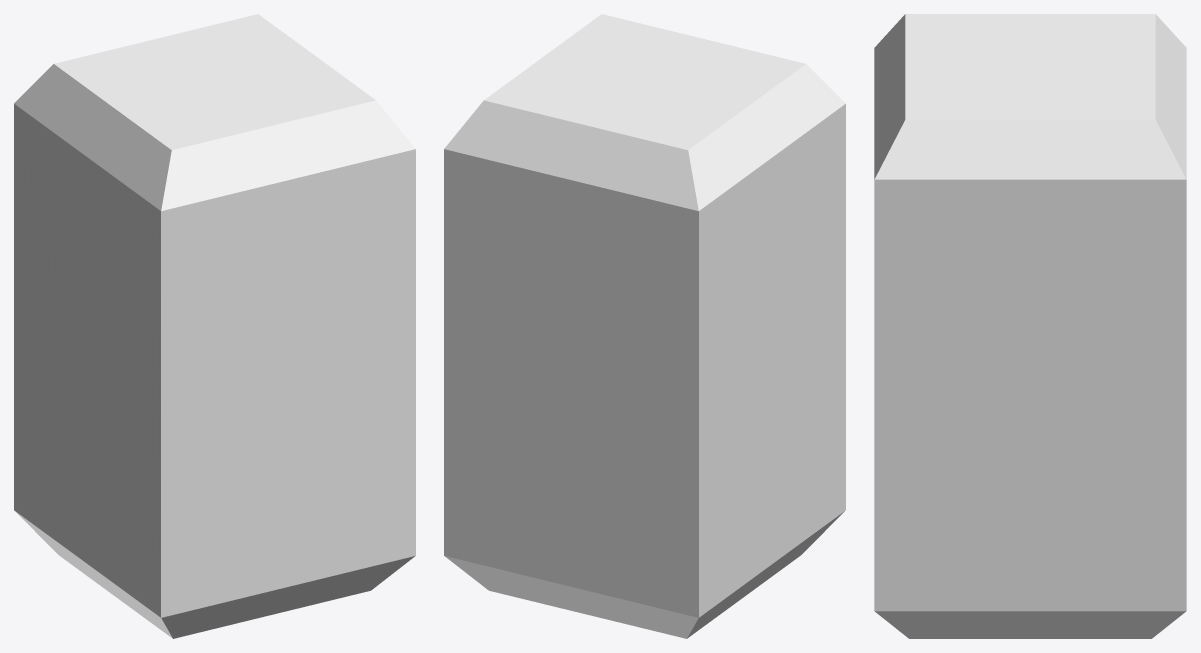
Rendered from player.gltf.
3 views of the same model, side by side, from view 1: azimuth 30°, elevation 25°; view 2: azimuth 150°, elevation 25°; view 3: azimuth 270°, elevation 25° (orthographic). The views are drawn at different scales.
Visible parts, largest first — view 1: Cube; view 2: Cube; view 3: Cube.
Boxes of the visible parts, left/top/right/bottom form: Cube: left=14, top=14, right=415, bottom=638; Cube: left=444, top=14, right=845, bottom=638; Cube: left=874, top=14, right=1186, bottom=638.
Bounding box in the file's own units: 2 × 3.68 × 2.
1 material, 1 textured.
